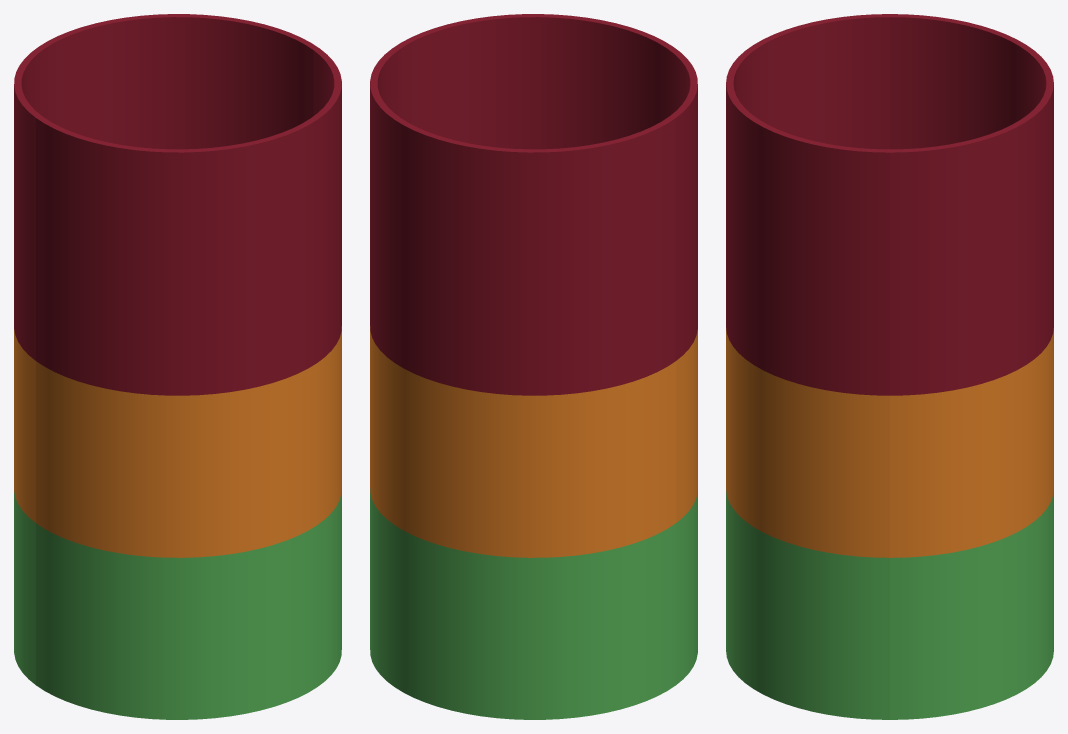
File: quench_tower_temperature.glb
The picture shows the model from 3 angles, left to right: view 1: azimuth 30°, elevation 25°; view 2: azimuth 150°, elevation 25°; view 3: azimuth 270°, elevation 25°; orthographic projection.
Parts seen in each view (by area): view 1: temperature__front, temperature__back; view 2: temperature__back, temperature__front; view 3: temperature__back, temperature__front.
Part boxes in pixels (x1,y1,x2,y2): temperature__front: (36, 48, 341, 719); temperature__back: (14, 14, 319, 684); temperature__back: (370, 48, 675, 719); temperature__front: (392, 14, 697, 684); temperature__back: (890, 14, 1053, 719); temperature__front: (726, 14, 889, 719).
Bounding box in the file's own units: 1.1 × 2.1 × 1.1.
